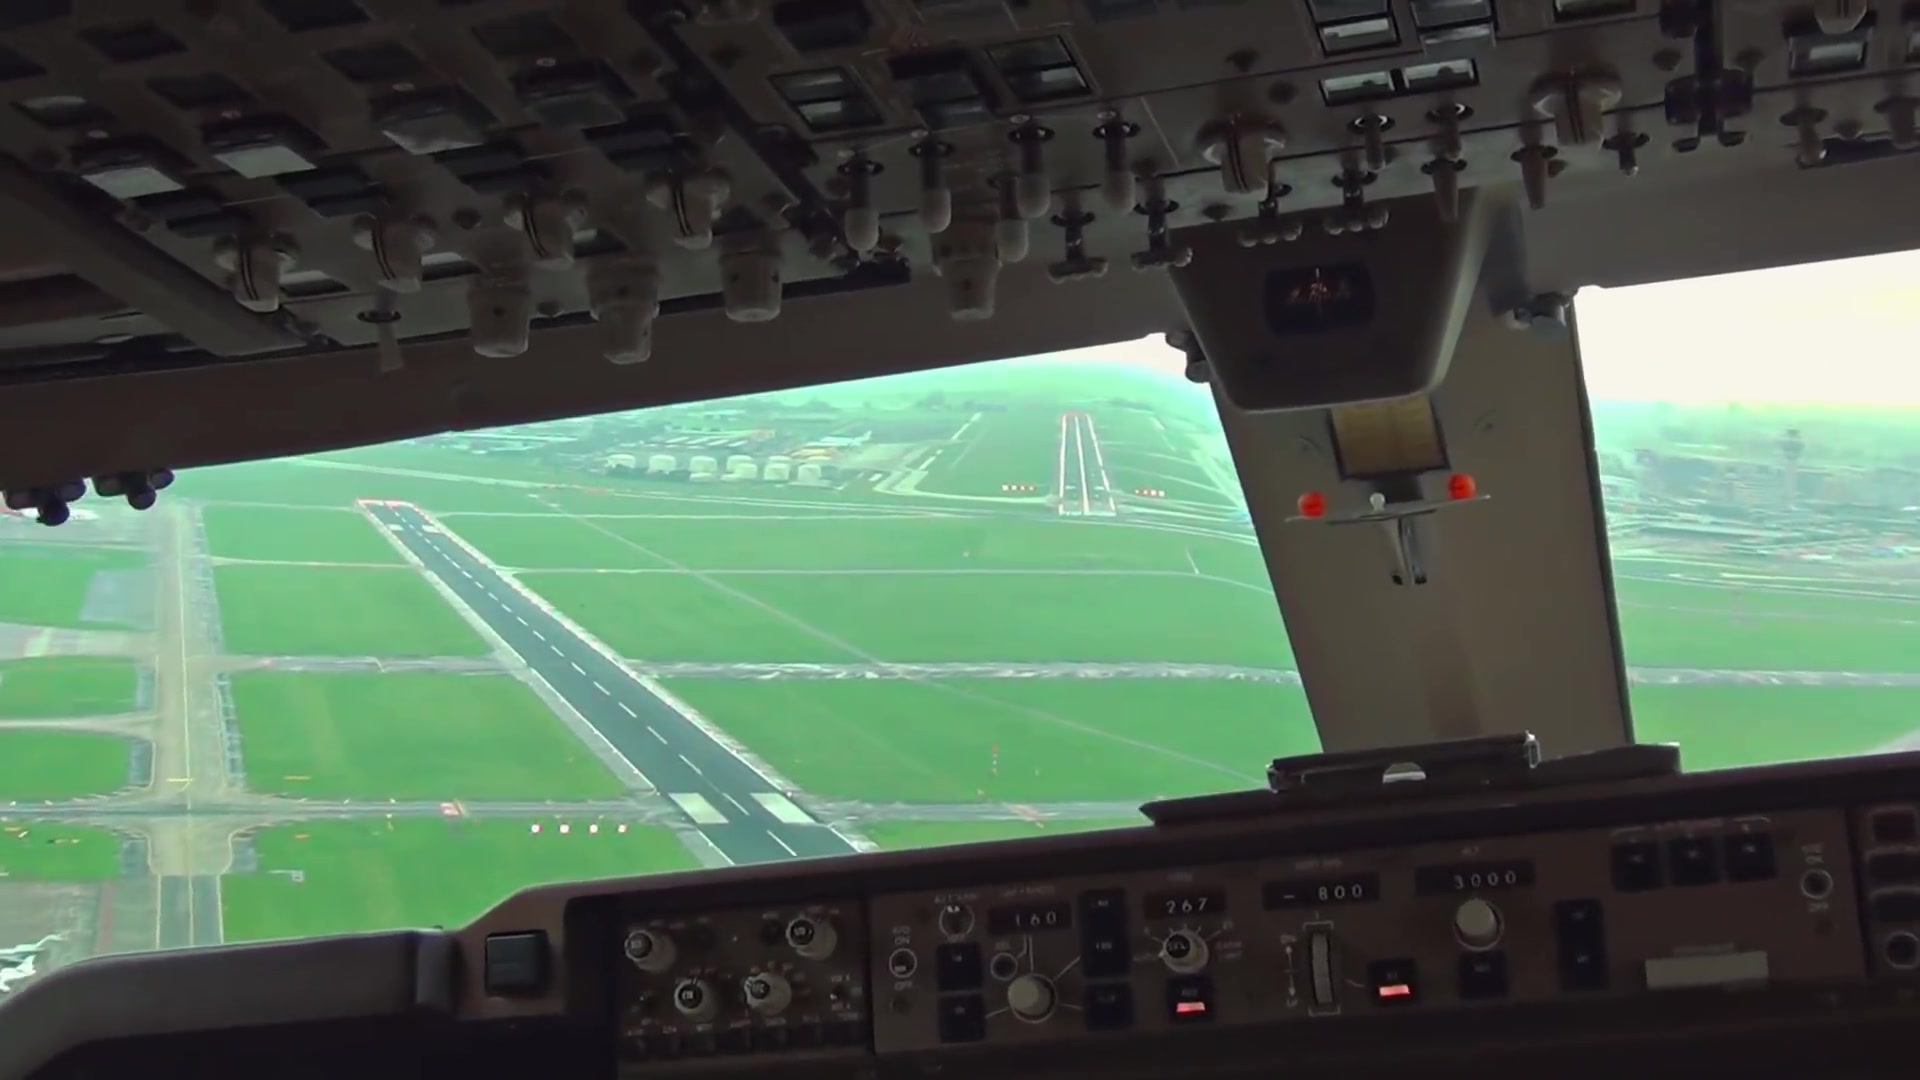runway: (1044, 407, 1124, 527)
